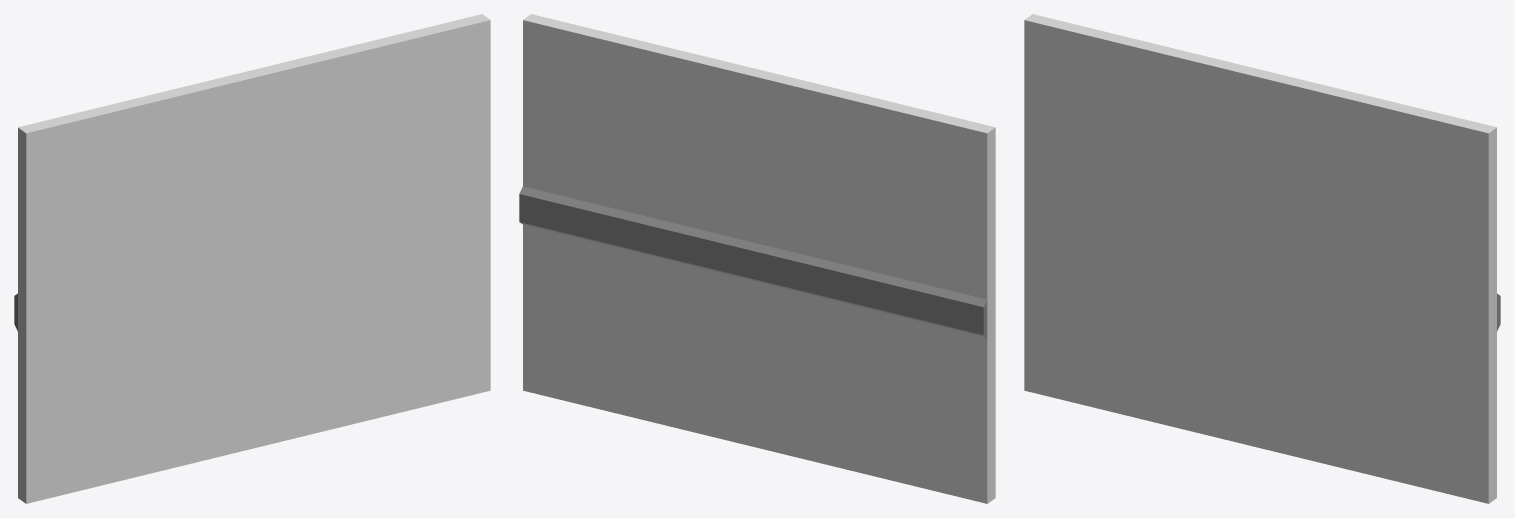
Rendered from Counter_3_A.obj.
The picture shows the model from 3 angles, left to right: view 1: azimuth 30°, elevation 25°; view 2: azimuth 150°, elevation 25°; view 3: azimuth 330°, elevation 25°; orthographic projection.
Visible parts, largest first — view 1: Counter_3_A; view 2: Counter_3_A; view 3: Counter_3_A.
Boxes of the visible parts, x1=… form: Counter_3_A: x1=14, y1=14, x2=490, y2=503; Counter_3_A: x1=519, y1=14, x2=995, y2=503; Counter_3_A: x1=1024, y1=14, x2=1500, y2=503.
Size of the model in its own units: 1 by 0.7623 by 0.0444.
